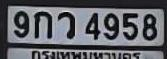4: (84, 12, 99, 39)
5: (122, 12, 137, 39)
8: (142, 13, 156, 39)
9: (13, 10, 28, 37), (103, 12, 118, 39)
A01: (33, 10, 51, 38)
A37: (57, 11, 74, 38)
